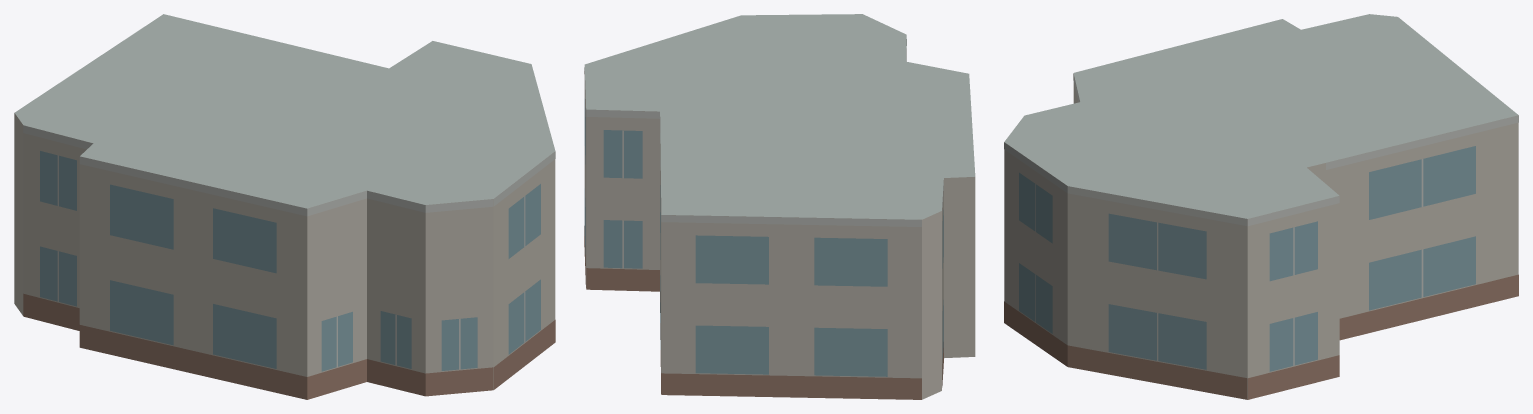
The model's file is survey-upis-32838951.glb.
3 views of the same model, side by side, from view 1: azimuth 30°, elevation 25°; view 2: azimuth 150°, elevation 25°; view 3: azimuth 270°, elevation 25° (orthographic). The views are drawn at different scales.
Visible parts, largest first — view 1: survey-upis-32838951.tmp; view 2: survey-upis-32838951.tmp; view 3: survey-upis-32838951.tmp.
Boxes of the visible parts, x1=… form: survey-upis-32838951.tmp: x1=14, y1=14, x2=555, y2=399; survey-upis-32838951.tmp: x1=584, y1=14, x2=975, y2=399; survey-upis-32838951.tmp: x1=1004, y1=14, x2=1518, y2=399.
Bounding box in the file's own units: 14.46 × 5.95 × 15.35.
